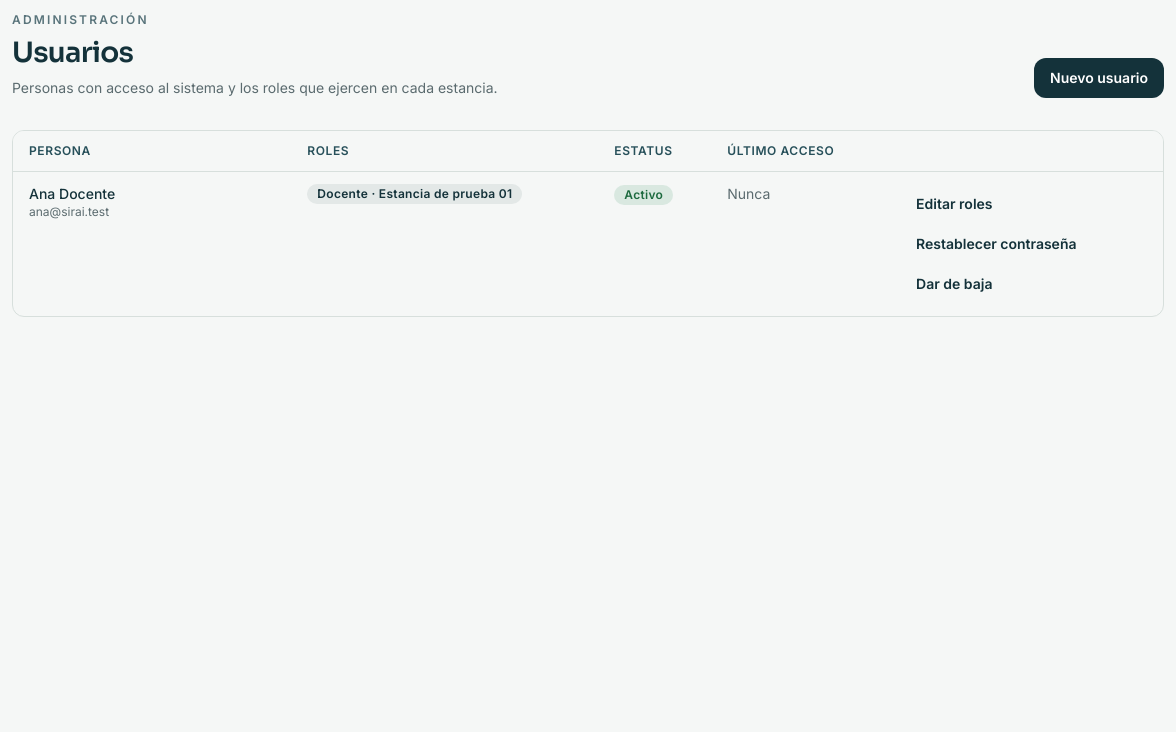
Test: restablecer la contraseña de un usuario (RF-38) › pide una contraseña temporal y la envía; avisa que la persona deberá cambiarla
Step 1. Click the button with aria-label "Restablecer contraseña de Ana Docente" → (996, 244), box x1=900 y1=224 x2=1092 y2=264
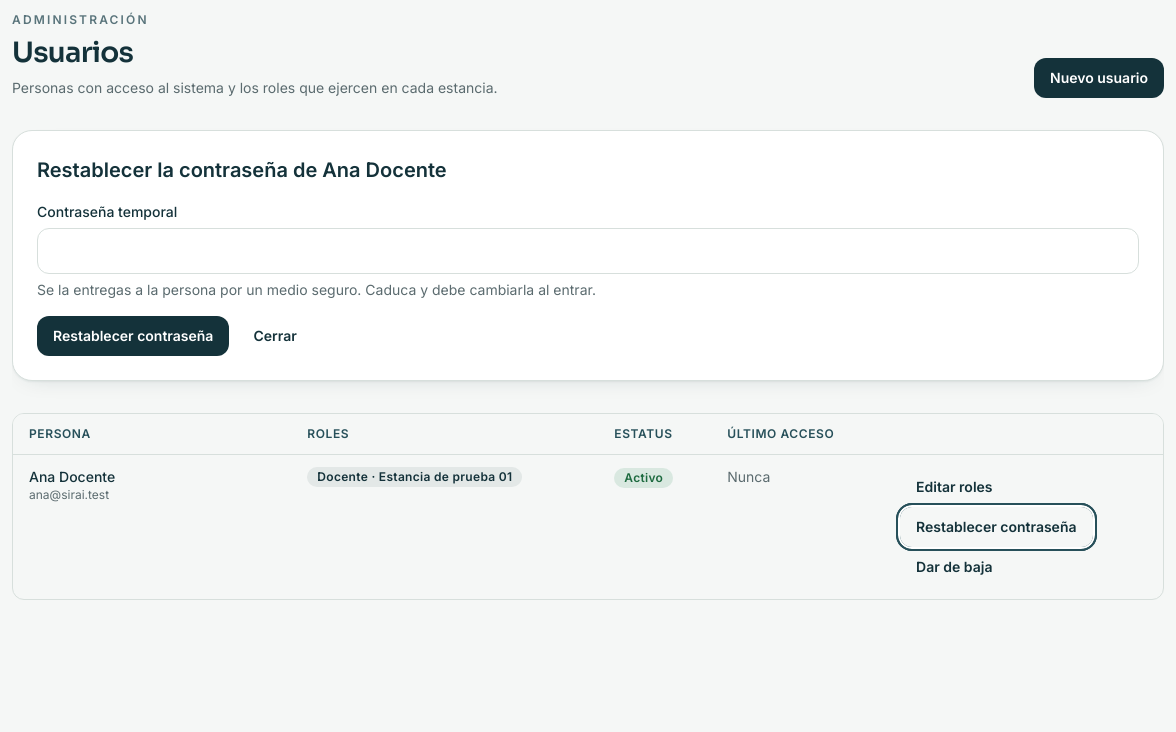
Step 2. Type "Restablecida-2026" into the field labelled "Contraseña temporal" → (588, 251), box x1=37 y1=228 x2=1139 y2=274
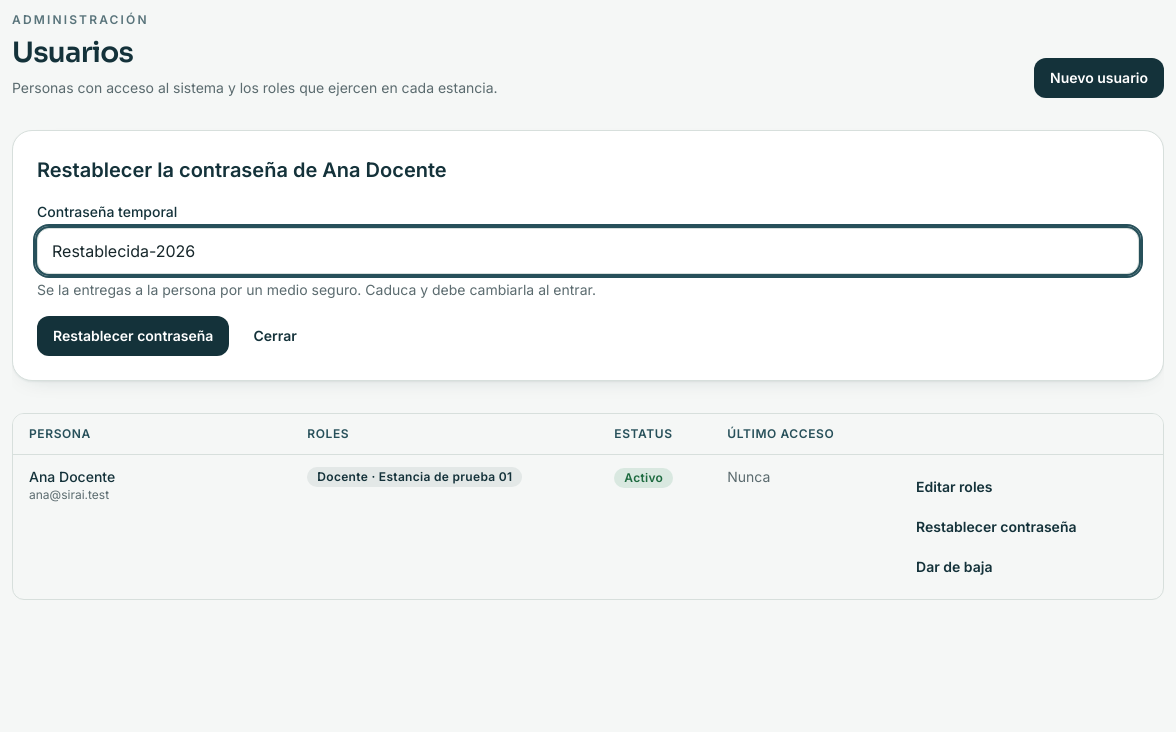
Step 3. Click the button "Restablecer contraseña" below "Contraseña temporal" → (133, 336), box x1=37 y1=316 x2=229 y2=356
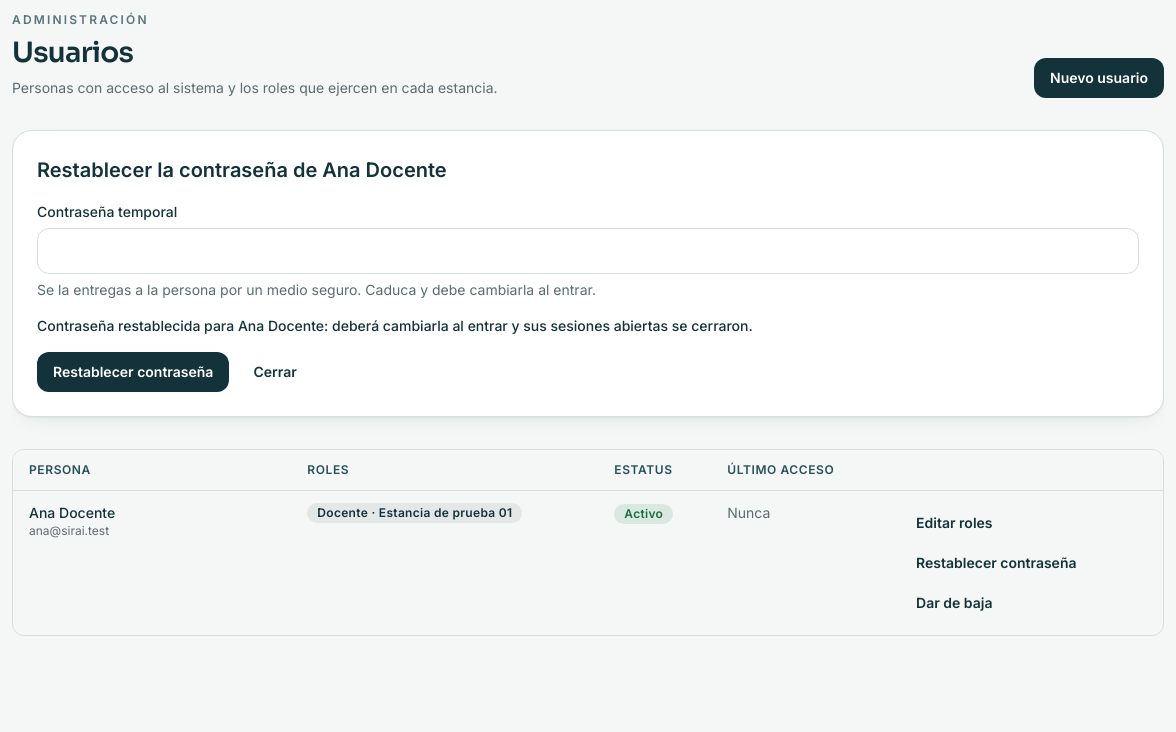
Expected: the message shows "deberá cambiarla al entrar", x1=324 y1=317 x2=753 y2=334
